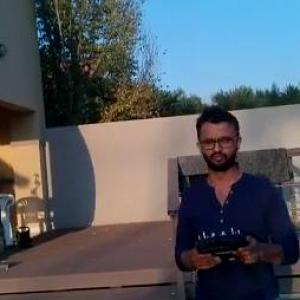follow: (170, 99, 299, 299)
